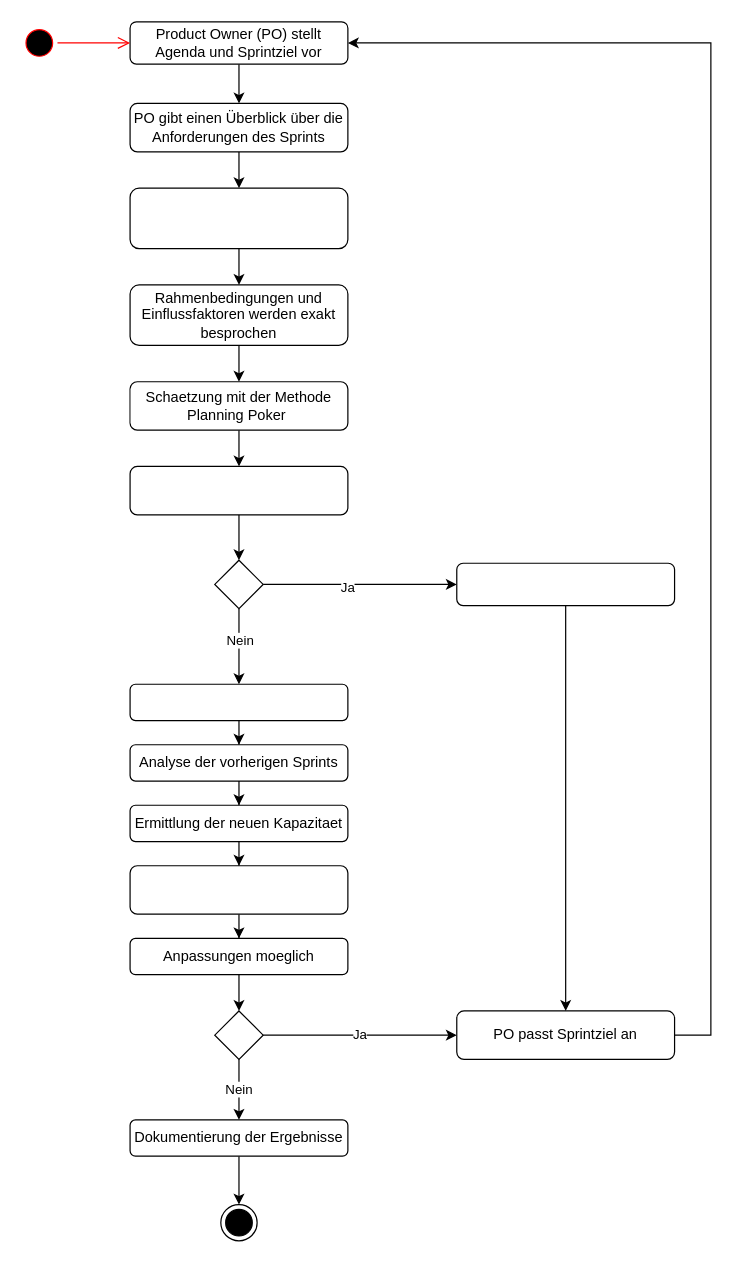
The diagram is 742 pixels wide and 1262 high, and some of its shapes have lost their labels. The box of each missing label's shape, as (x1, y1, x2, y2) in pixels:
Anforderungen in das Selektierte Produkt Backlog aufnehmen: (129, 465, 348, 515)
Anforderungen werden nacheinander einzeln im Team analysiert: (129, 187, 348, 249)
Aufgenommenen Anforderungen ueberpruefen ggf. Ziel anpassen: (129, 865, 348, 914)
Forecast aller Beteiligten: (129, 683, 348, 721)
Schaetzung wird in das Produkt Backlog zurueckgelegt: (456, 562, 675, 606)
